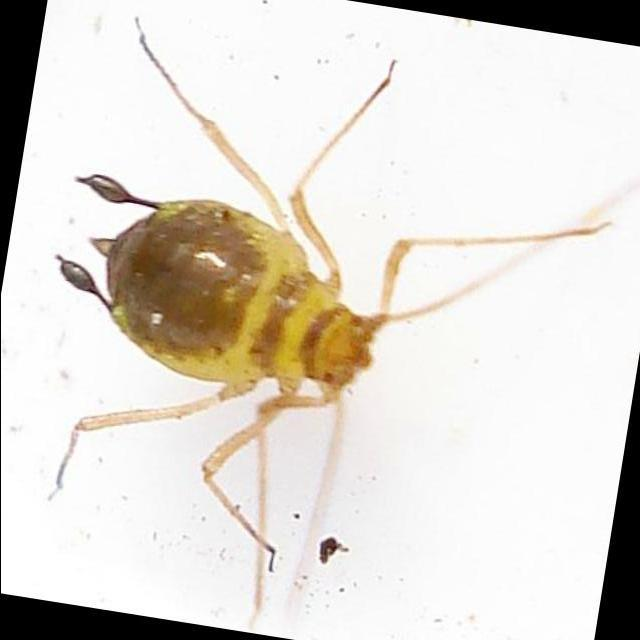aphid: (15, 7, 609, 630)
